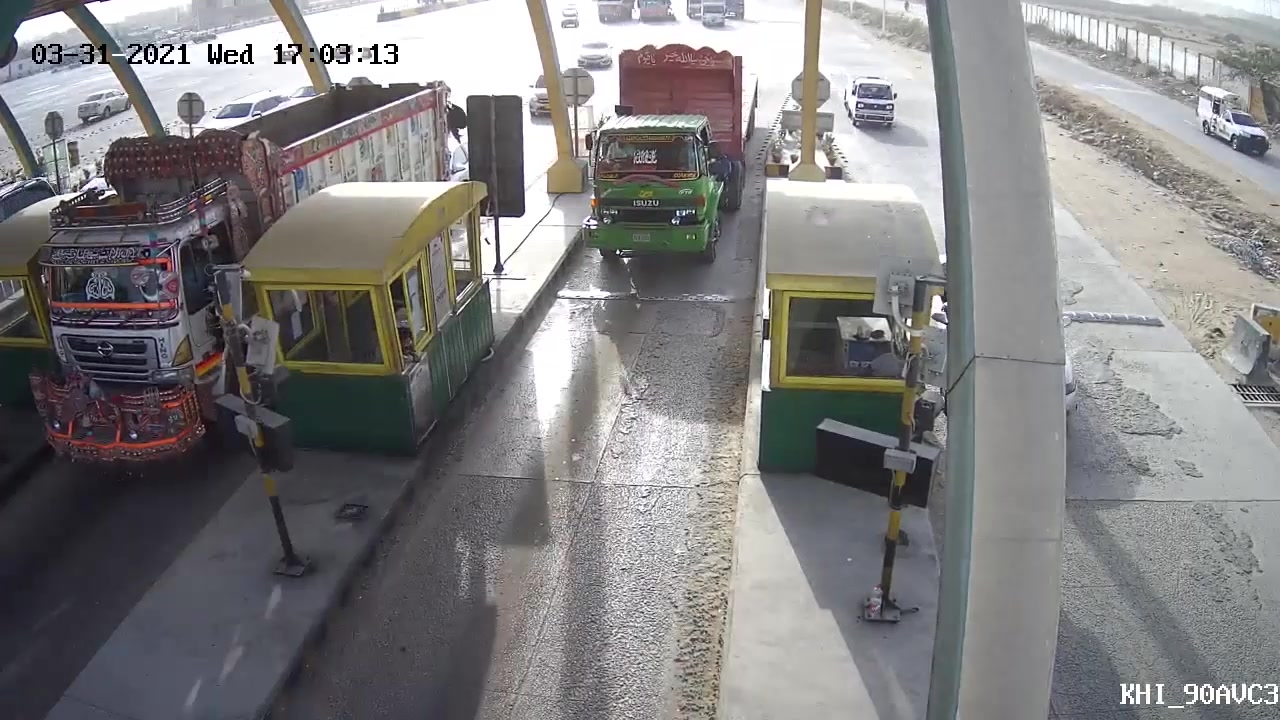F5: (566, 43, 760, 277)
